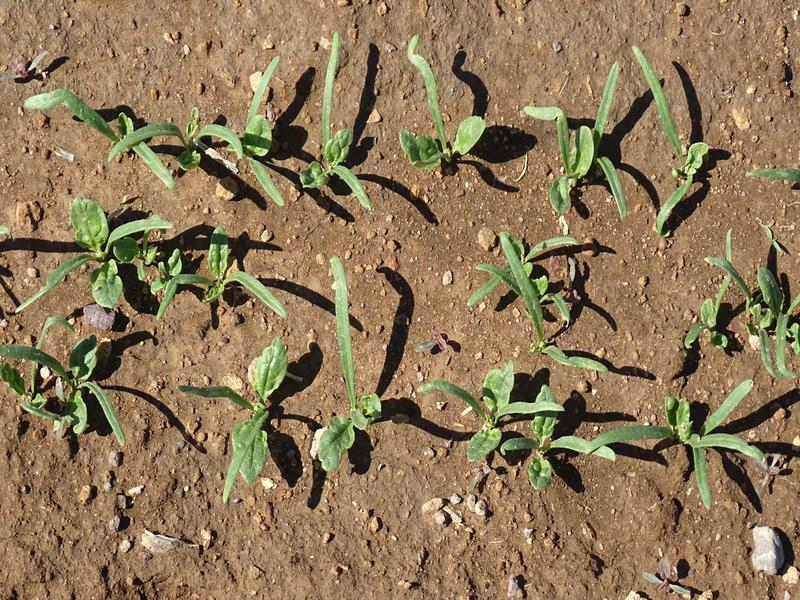Espinaca: (35, 34, 719, 207), (440, 373, 769, 516), (17, 201, 289, 323), (188, 337, 294, 507), (310, 254, 382, 480), (491, 241, 611, 375), (1, 328, 128, 445), (692, 232, 800, 367)
